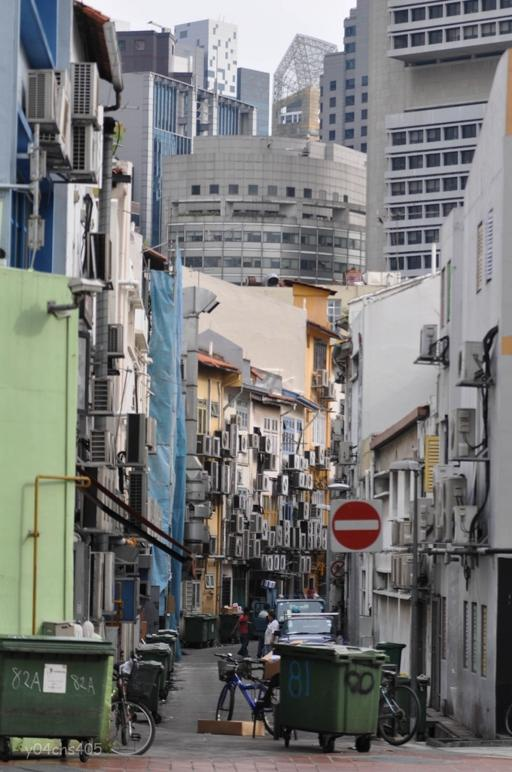non-vehicle: (213, 652, 284, 737), (108, 662, 155, 758), (375, 668, 422, 745)
